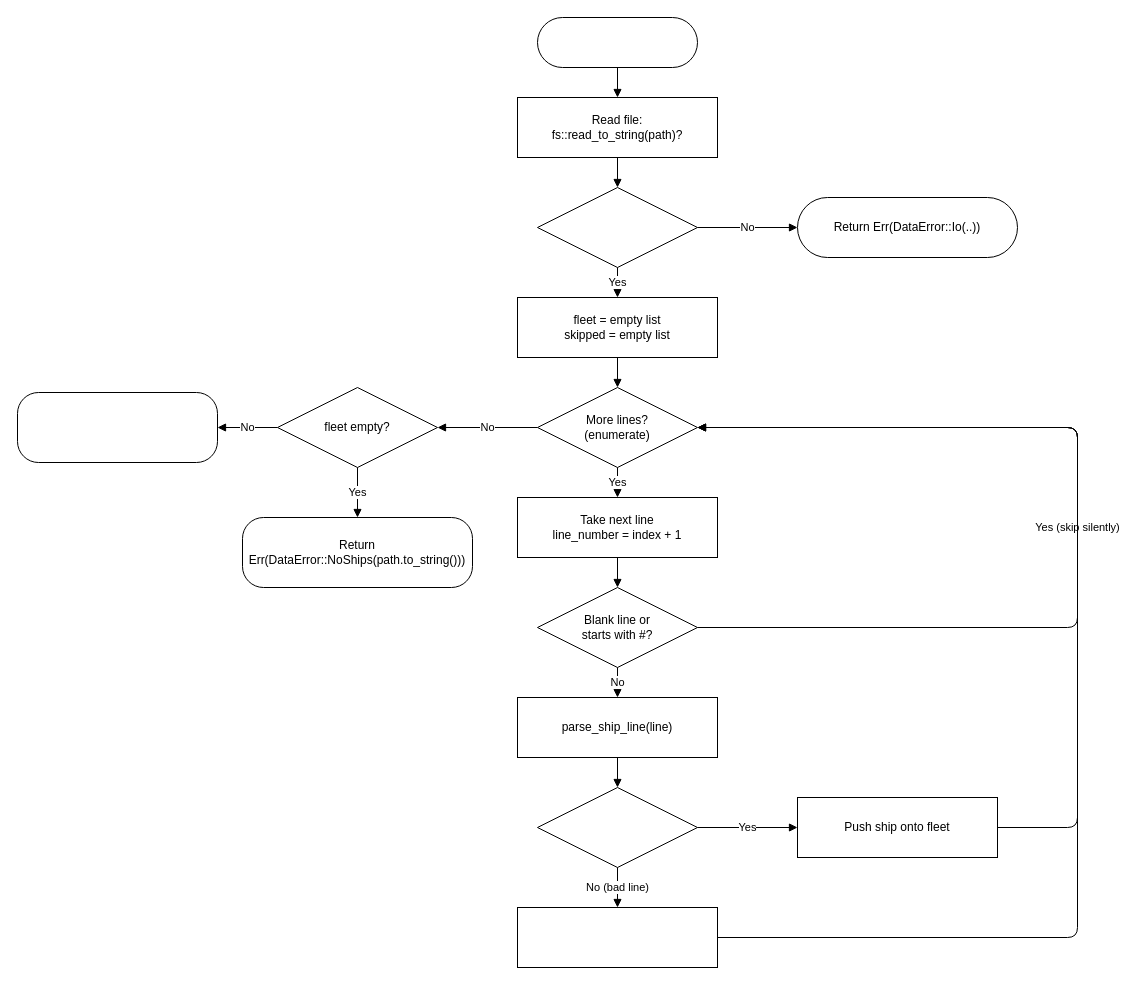
This 1137x985 diagram has some shape labels left out. The centre of each missing label's shape, as x and y in pixels:
"Ok(ship)?" belongs at point (617, 827).
"Push (line_number, error) onto skipped" belongs at point (617, 937).
"Read OK?" belongs at point (617, 227).
"Return Ok(FleetReport { fleet, skipped })" belongs at point (117, 427).
"Start: load_fleet(path)" belongs at point (617, 42).
